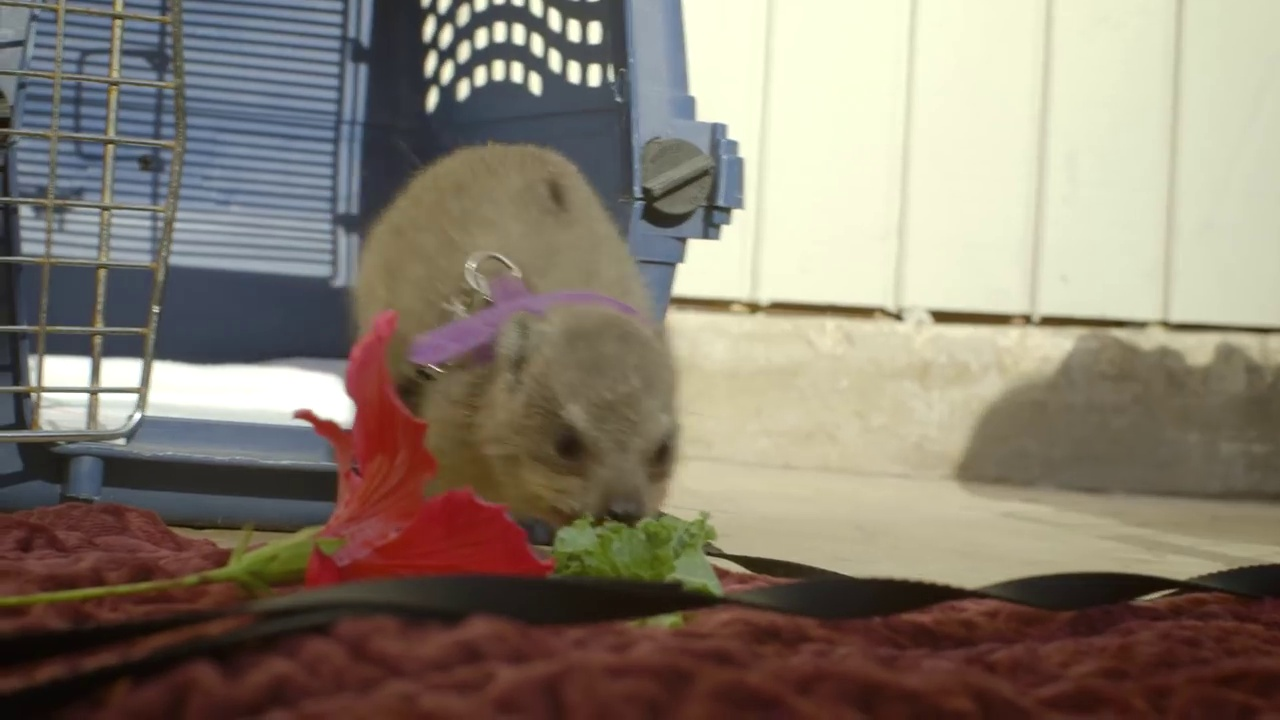Rock Hyrex: (356, 142, 679, 529)
